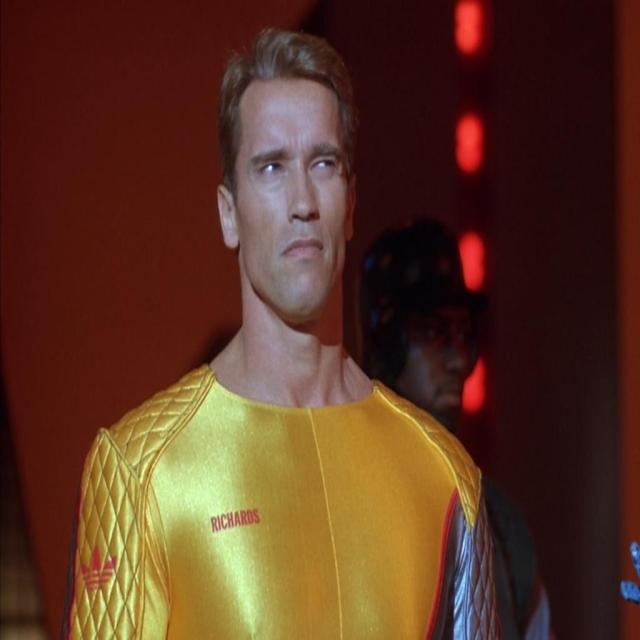Face: (234, 75, 358, 333)
